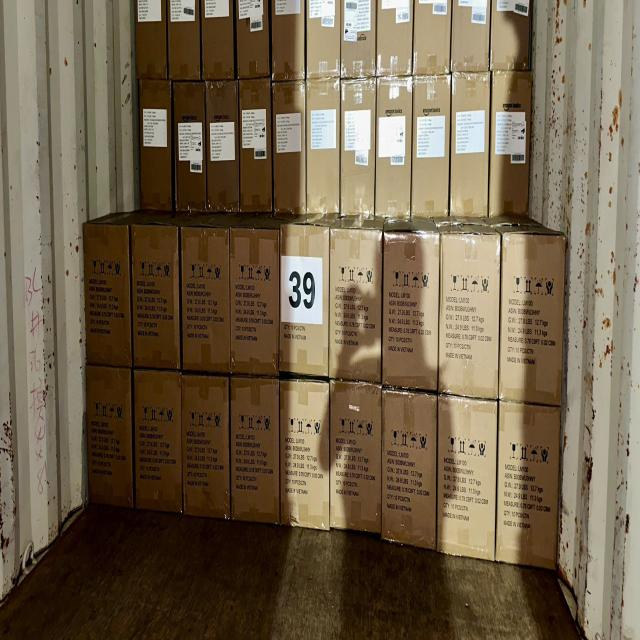Carton: (503, 229, 570, 408), (437, 231, 499, 399), (500, 402, 562, 570), (435, 399, 496, 565), (383, 232, 442, 389), (382, 394, 439, 553), (331, 230, 385, 386), (331, 380, 385, 535), (128, 222, 182, 369), (278, 381, 330, 533), (82, 219, 135, 368), (180, 225, 233, 373), (84, 365, 138, 510), (232, 375, 284, 524), (280, 228, 331, 378), (180, 374, 233, 518), (134, 371, 184, 519), (228, 230, 278, 373)
